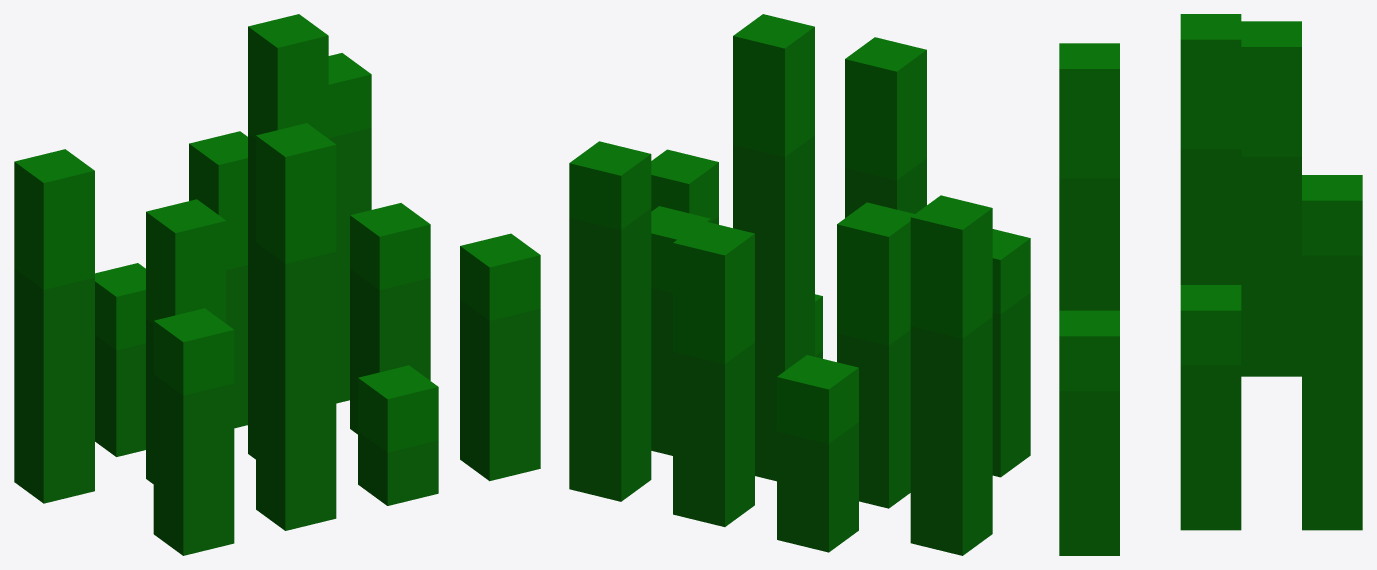
Rendered from Plants-10.obj.
The picture shows the model from 3 angles, left to right: view 1: azimuth 30°, elevation 25°; view 2: azimuth 150°, elevation 25°; view 3: azimuth 270°, elevation 25°; orthographic projection. The views are drawn at different scales.
Bounding box in the file's own units: 0.8 × 0.8 × 0.5.
1 material, 1 textured.
